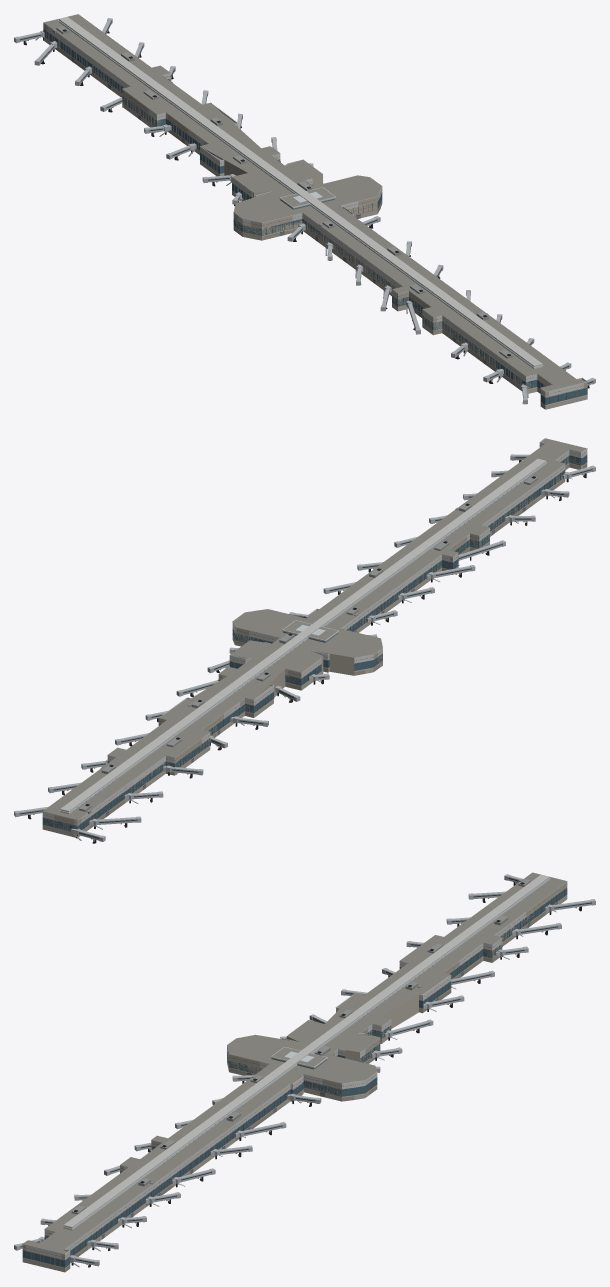
The model's file is atl-concourse-b.glb.
The picture shows the model from 3 angles, top to bottom: view 1: azimuth 30°, elevation 25°; view 2: azimuth 150°, elevation 25°; view 3: azimuth 330°, elevation 25°; orthographic projection.
Parts seen in each view (by area): view 1: lod2_lm_stone, lod0_lm_metal, lod1_lm_stone, lod2_bld_wall, lod0_bld_glass, lod2_lm_lit, lod0_bld_wall, lod1_bld_glass, lod1_lm_lit, lod1_bld_wall; view 2: lod2_lm_stone, lod0_lm_metal, lod1_lm_stone, lod2_bld_wall, lod0_bld_glass, lod1_bld_glass, lod2_lm_lit, lod0_bld_wall, lod0_lm_glass, lod1_lm_lit, lod1_bld_wall; view 3: lod2_lm_stone, lod0_lm_metal, lod1_lm_stone, lod0_bld_glass, lod2_bld_wall, lod0_bld_wall, lod0_lm_lit, lod0_lm_glass, lod2_lm_lit.
Part boxes in pixels (<box>): lod2_lm_stone: <box>44,14,586,391</box>; lod0_lm_metal: <box>14,18,595,404</box>; lod1_lm_stone: <box>14,17,595,403</box>; lod2_bld_wall: <box>43,23,587,397</box>; lod0_bld_glass: <box>43,28,587,404</box>; lod2_lm_lit: <box>59,19,533,367</box>; lod0_bld_wall: <box>43,37,587,409</box>; lod1_bld_glass: <box>93,65,587,393</box>; lod1_lm_lit: <box>59,21,533,368</box>; lod1_bld_wall: <box>92,73,520,390</box>; lod2_lm_stone: <box>43,438,586,819</box>; lod0_lm_metal: <box>14,438,595,842</box>; lod1_lm_stone: <box>14,439,595,843</box>; lod2_bld_wall: <box>43,440,580,837</box>; lod0_bld_glass: <box>77,455,587,829</box>; lod1_bld_glass: <box>42,470,565,831</box>; lod2_lm_lit: <box>69,461,546,813</box>; lod0_bld_wall: <box>78,463,587,837</box>; lod0_lm_glass: <box>20,457,591,838</box>; lod1_lm_lit: <box>69,463,546,814</box>; lod1_bld_wall: <box>42,479,565,837</box>; lod2_lm_stone: <box>23,872,566,1254</box>; lod0_lm_metal: <box>14,874,595,1267</box>; lod1_lm_stone: <box>15,874,595,1266</box>; lod0_bld_glass: <box>22,887,567,1267</box>; lod2_bld_wall: <box>22,882,567,1268</box>; lod0_bld_wall: <box>22,896,567,1272</box>; lod0_lm_lit: <box>72,879,549,1229</box>; lod0_lm_glass: <box>20,878,591,1263</box>; lod2_lm_lit: <box>72,877,549,1227</box>.
Size of the model in its own units: 112 by 16.51 by 709.
